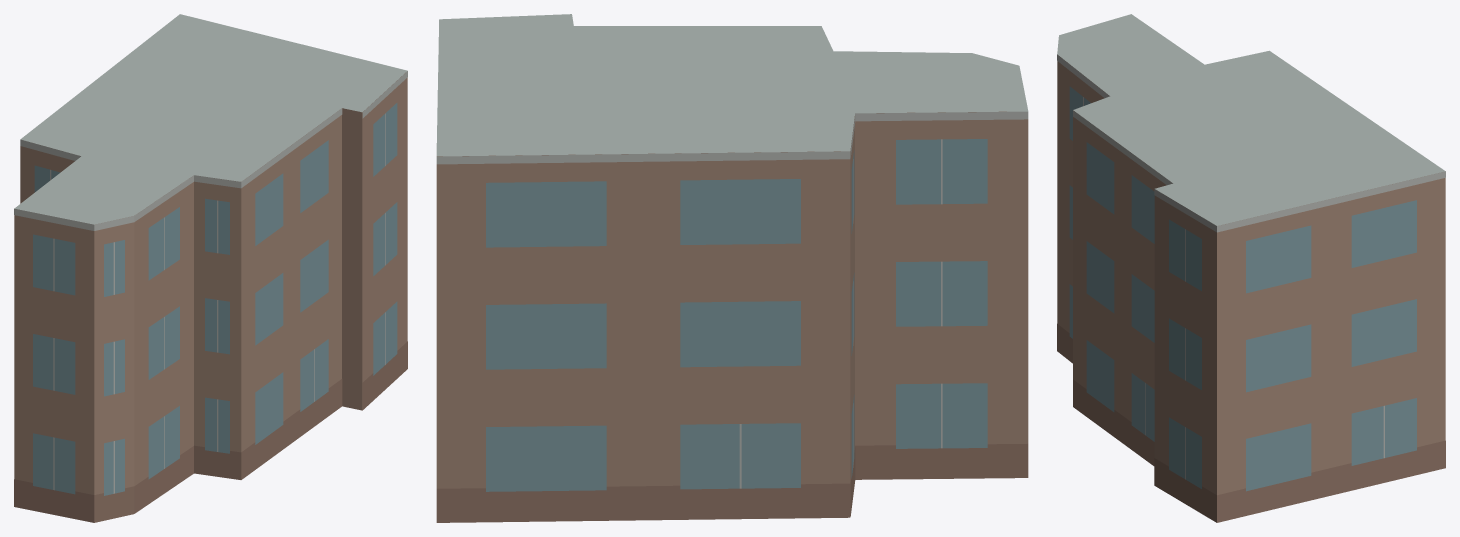
The model's file is survey-upis-32613121.glb.
The picture shows the model from 3 angles, left to right: view 1: azimuth 30°, elevation 25°; view 2: azimuth 150°, elevation 25°; view 3: azimuth 270°, elevation 25°; orthographic projection. The views are drawn at different scales.
Parts seen in each view (by area): view 1: survey-upis-32613121.tmp; view 2: survey-upis-32613121.tmp; view 3: survey-upis-32613121.tmp.
Part boxes in pixels (x1,y1,x2,y2): survey-upis-32613121.tmp: (14,14,407,522); survey-upis-32613121.tmp: (436,14,1028,522); survey-upis-32613121.tmp: (1057,14,1445,522).
Bounding box in the file's own units: 17.17 × 11.2 × 13.3.
